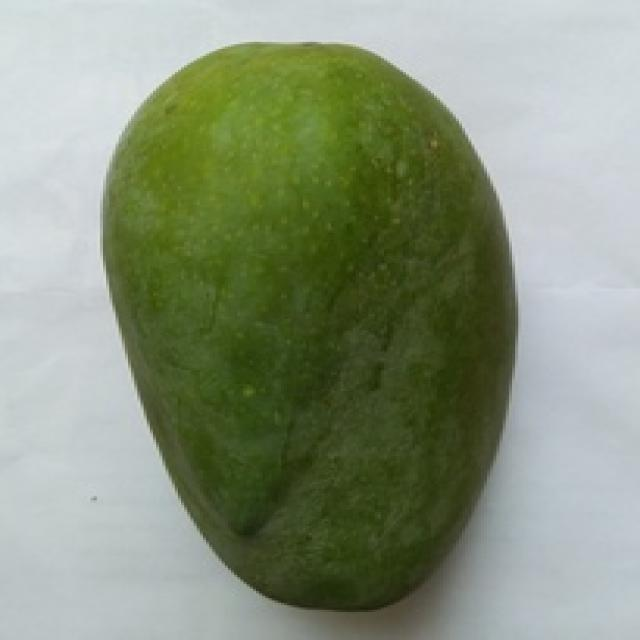Mango: (103, 44, 512, 607)
